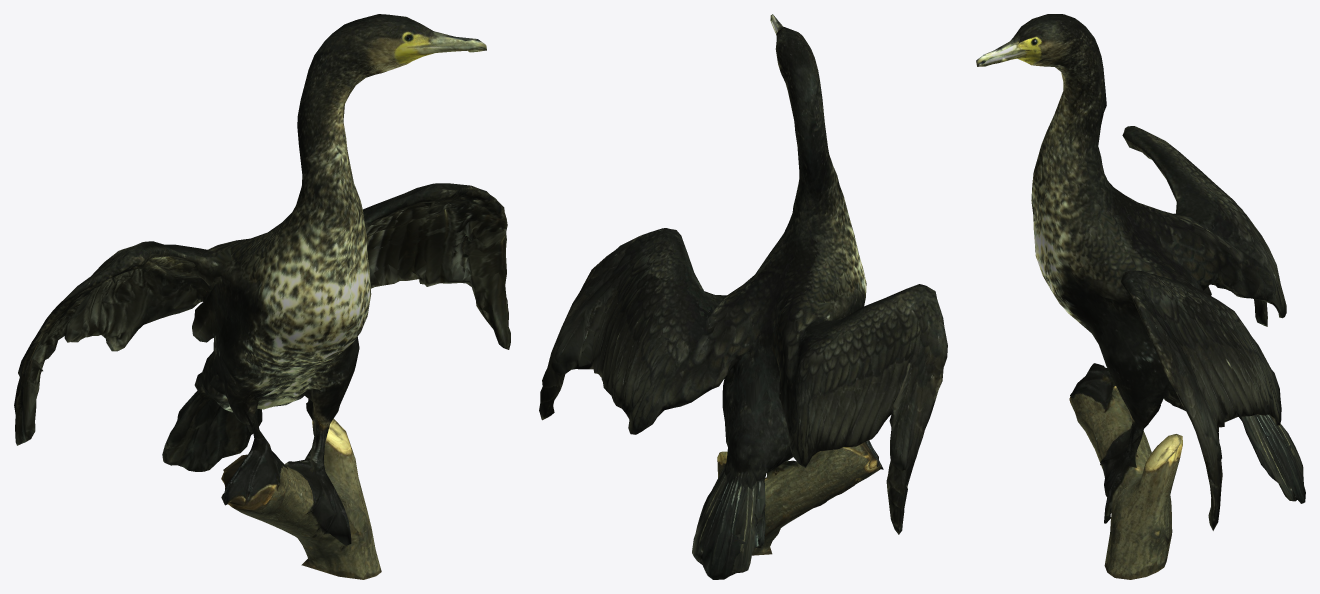
Rendered from ruci.fbx.
3 views of the same model, side by side, from view 1: azimuth 30°, elevation 25°; view 2: azimuth 150°, elevation 25°; view 3: azimuth 270°, elevation 25° (orthographic). The views are drawn at different scales.
Visible parts, largest first — view 1: ruci; view 2: ruci; view 3: ruci.
Part boxes in pixels (x1=…): ruci: x1=14, y1=14, x2=510, y2=579; ruci: x1=539, y1=14, x2=947, y2=579; ruci: x1=976, y1=14, x2=1305, y2=579.
Size of the model in its own units: 4448 by 5279 by 2893.
1 material, 1 textured.
